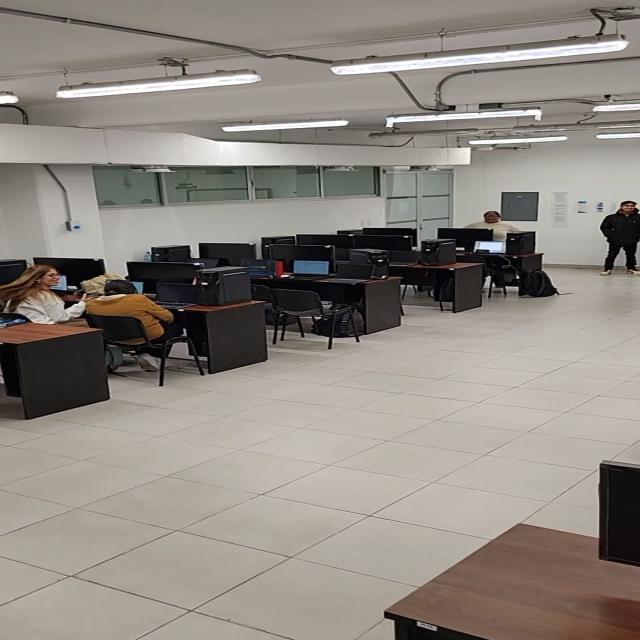Persona: (598, 198, 638, 273), (463, 208, 523, 243)
